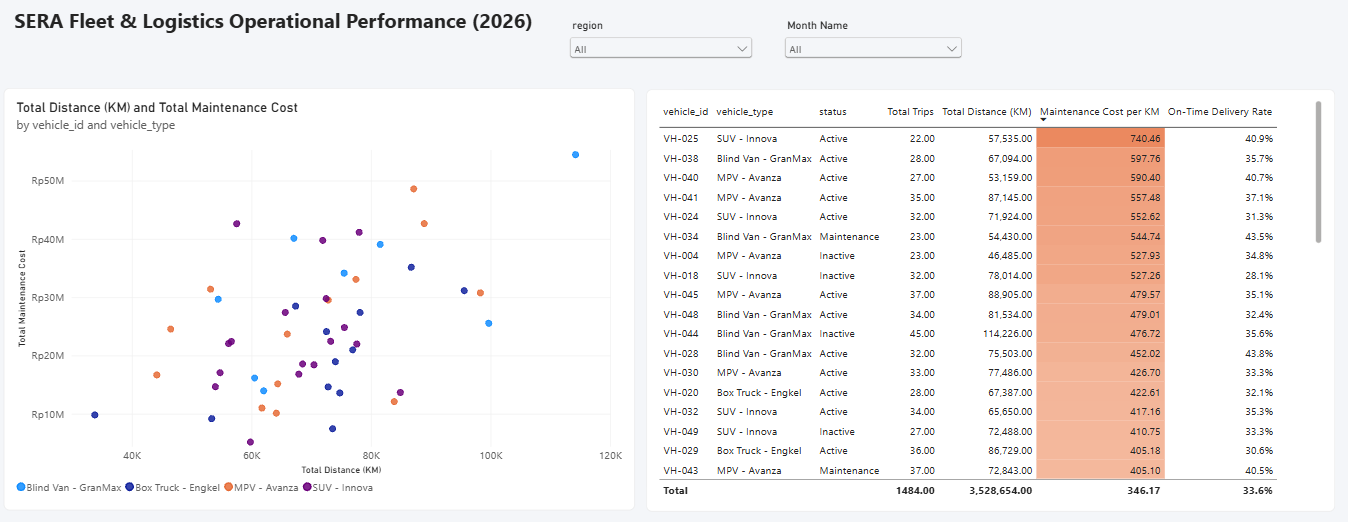

The page's visual inventory and layout, read from the dashboard file:
{"tool":"powerbi","page":{"name":"Fleet Maintenance Audit","canvas":[1920,1080],"ordinal":1},"visuals":[{"type":"textbox","box":[11.2,0,719.2,97.1],"z":0},{"type":"slicer","fields":{"Values":["dim_branch.region"]},"box":[761.2,35,252.9,61],"z":1000},{"type":"slicer","fields":{"Values":["Dim_Date.Month Name"]},"box":[1047.5,35,245.9,61],"z":2000},{"type":"scatterChart","fields":{"Category":["dim_vehicle.vehicle_id"],"Series":["dim_vehicle.vehicle_type"],"X":["_Measures.Total Distance (KM)"],"Y":["_Measures.Total Maintenance Cost"]},"box":[11.9,125.9,841.7,563.3],"z":3000},{"type":"tableEx","fields":{"Values":["dim_vehicle.vehicle_id","dim_vehicle.vehicle_type","dim_vehicle.status","_Measures.Total Trips","_Measures.Total Distance (KM)","_Measures.Maintenance Cost per KM","_Measures.On-Time Delivery Rate"]},"box":[867.7,127.6,918.3,563.3],"z":4000}]}

Visuals, with their boxes on the page's 1920x1080 design canvas (x1, y1, x2, y2). These are canvas units, not pixel positions in the 1348x522 screenshot, which may show the page scaled, cropped or inside an application window:
textbox: 11 0 730 97
slicer - dim_branch.region: 761 35 1014 96
slicer - Dim_Date.Month Name: 1048 35 1293 96
scatterChart - dim_vehicle.vehicle_id x dim_vehicle.vehicle_type: 12 126 854 689
tableEx - dim_vehicle.vehicle_id x dim_vehicle.vehicle_type: 868 128 1786 691
